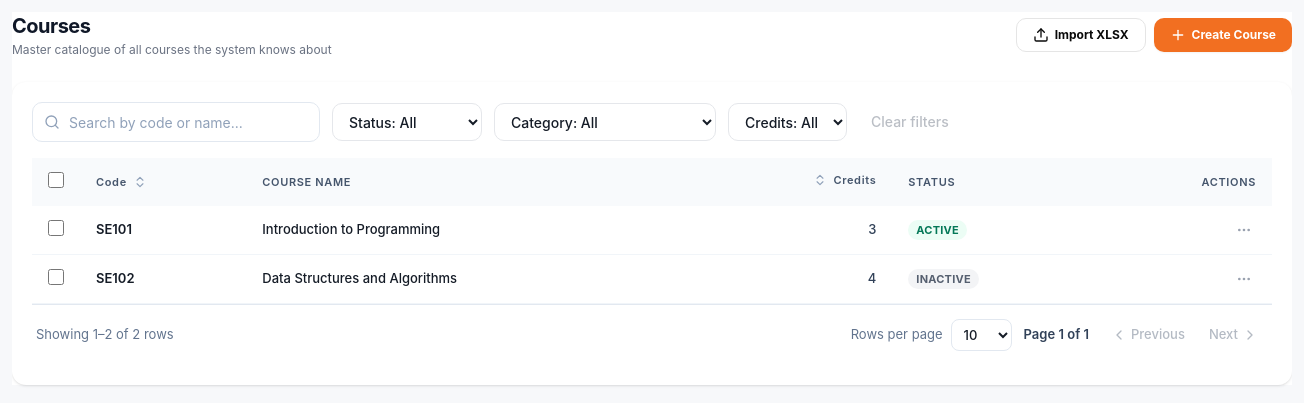
Courses › filters the catalogue by credits
Check: the text "SE101" is shown, box [96,221,132,237]
Select "Credits: 4" in the dropdown named "Filter by credits" at [788, 122], box [728,103,847,141]
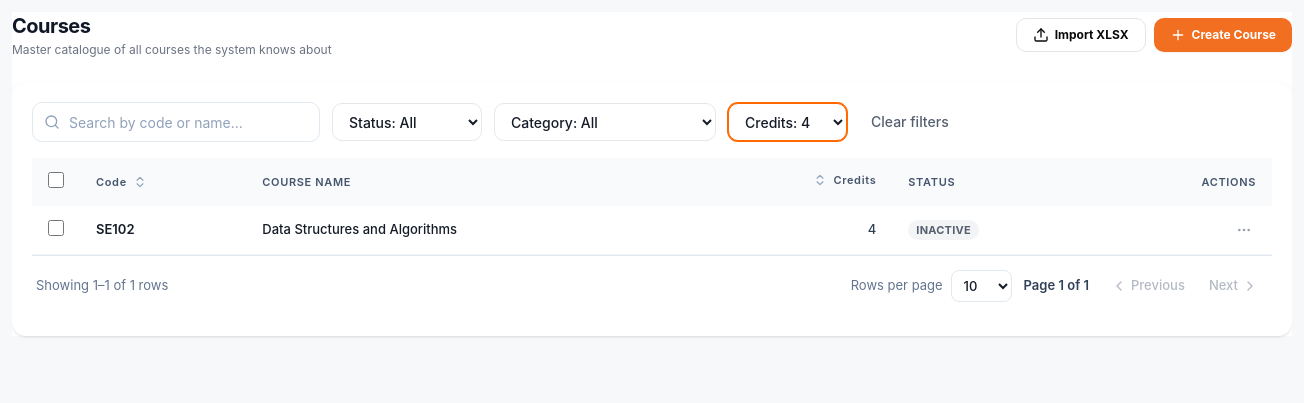
Check: the text "SE102" is shown, box [96,221,134,237]
Check: the text "SE101" is gone
